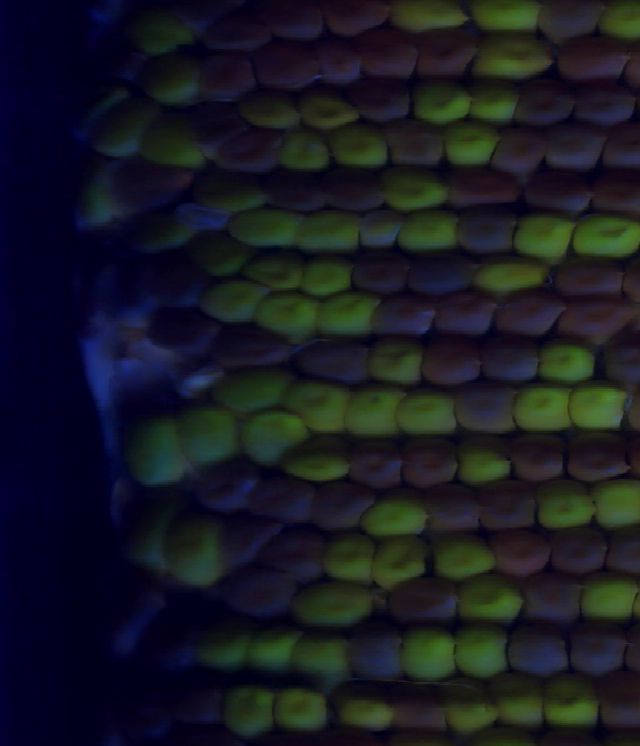fluorescent: (120, 414, 194, 487), (166, 511, 220, 590), (178, 403, 237, 469), (464, 39, 552, 81), (454, 576, 525, 626), (285, 374, 343, 434), (241, 416, 305, 468), (510, 385, 574, 437), (291, 581, 370, 622), (117, 500, 162, 571), (122, 211, 198, 253), (205, 277, 270, 326), (208, 374, 294, 411), (454, 626, 514, 679), (366, 338, 425, 391), (367, 540, 433, 587), (541, 675, 600, 727), (569, 213, 640, 256), (512, 212, 575, 260), (357, 501, 430, 542), (226, 208, 299, 249), (187, 234, 252, 280), (288, 624, 346, 675), (342, 389, 400, 440), (333, 685, 400, 729), (473, 256, 551, 293), (141, 116, 201, 164), (145, 59, 206, 106), (438, 121, 499, 168), (138, 2, 193, 54), (294, 207, 359, 250), (320, 292, 375, 342), (532, 481, 599, 522), (429, 539, 494, 581), (467, 76, 519, 128), (275, 690, 331, 738), (568, 385, 629, 429), (261, 295, 322, 339), (391, 1, 477, 32), (322, 538, 372, 591), (578, 575, 638, 619), (453, 437, 509, 484), (196, 618, 247, 669), (404, 630, 454, 682), (495, 676, 547, 726), (380, 175, 448, 212), (298, 95, 364, 133), (411, 77, 467, 121), (208, 176, 268, 217), (394, 390, 451, 433), (245, 626, 296, 674), (536, 348, 595, 389), (467, 1, 545, 32), (240, 90, 296, 133), (333, 130, 394, 169), (231, 685, 275, 739), (596, 477, 640, 529), (408, 206, 457, 250), (93, 108, 143, 151), (280, 130, 331, 172), (445, 685, 496, 726), (285, 450, 348, 481), (68, 172, 106, 221), (356, 211, 398, 251), (595, 3, 640, 40), (249, 260, 304, 289), (298, 266, 349, 297)
nonfluorescent: (515, 166, 599, 218), (101, 582, 158, 653), (562, 429, 631, 486), (267, 519, 330, 580), (295, 338, 370, 389), (414, 24, 483, 77), (420, 334, 487, 387), (430, 291, 499, 342), (210, 321, 291, 364), (135, 243, 195, 301), (564, 617, 622, 677), (383, 576, 457, 623), (504, 429, 566, 485), (547, 524, 615, 575), (83, 230, 131, 301), (249, 466, 310, 521), (448, 384, 515, 434), (477, 333, 541, 385), (491, 291, 563, 337), (345, 433, 403, 490), (403, 440, 462, 496), (196, 3, 266, 50), (212, 572, 283, 618), (516, 570, 580, 621), (510, 71, 567, 127), (503, 626, 568, 675), (422, 480, 480, 534), (554, 302, 636, 340), (148, 305, 209, 356), (438, 163, 515, 203), (264, 165, 329, 212), (552, 43, 630, 81), (484, 528, 547, 575), (480, 480, 540, 529), (406, 254, 474, 297), (369, 293, 435, 337), (390, 685, 448, 735), (551, 251, 620, 293), (326, 165, 387, 212), (219, 128, 279, 175), (309, 484, 373, 528), (122, 161, 185, 205), (359, 30, 419, 76), (346, 626, 400, 676), (195, 51, 253, 97), (322, 1, 394, 38), (593, 163, 640, 219), (598, 675, 640, 737), (264, 1, 324, 44), (459, 207, 520, 249), (193, 460, 241, 512), (575, 81, 640, 119), (361, 79, 416, 122), (264, 40, 316, 85), (345, 254, 406, 292), (537, 1, 598, 39), (545, 129, 604, 168), (190, 98, 232, 151), (215, 509, 256, 561), (593, 339, 640, 384), (125, 482, 190, 513), (493, 132, 553, 165), (174, 682, 217, 727), (388, 130, 442, 164), (316, 40, 359, 81), (151, 634, 189, 669), (608, 124, 640, 165)
